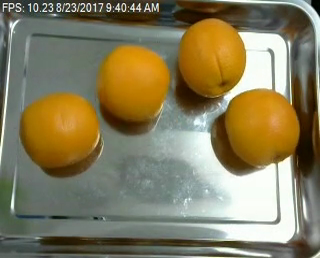Orange: (19, 91, 100, 168), (226, 87, 301, 166), (96, 44, 170, 121), (176, 18, 245, 97)
